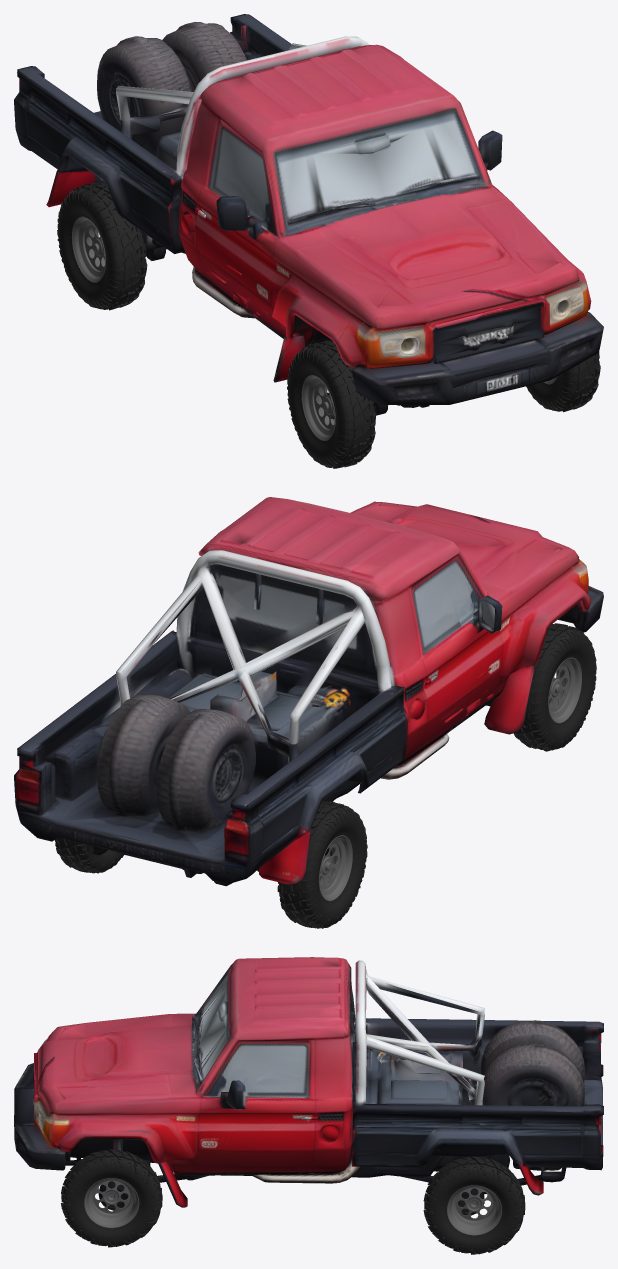
Rendered from toyota-24.glb.
3 renders of one model, top to bottom at view 1: azimuth 30°, elevation 25°; view 2: azimuth 150°, elevation 25°; view 3: azimuth 270°, elevation 25°, orthographic. The views are drawn at different scales.
Parts seen in each view (by area): view 1: chassis, Wheel_BR, WheeL_FR, Wheel_FL; view 2: chassis, Wheel_BR, WheeL_FR, Wheel_BL; view 3: chassis, Wheel_BL, Wheel_FL.
Boxes of the visible parts, x1,y1,x2,y2 form: chassis: (14, 14, 603, 419); Wheel_BR: (57, 182, 147, 310); WheeL_FR: (287, 340, 375, 468); Wheel_FL: (526, 351, 600, 412); chassis: (14, 497, 603, 886); Wheel_BR: (277, 801, 367, 928); WheeL_FR: (513, 623, 596, 751); Wheel_BL: (55, 838, 123, 873); chassis: (14, 957, 603, 1215); Wheel_BL: (423, 1156, 525, 1254); Wheel_FL: (61, 1149, 162, 1247).
Bounding box in the file's own units: 2.24 × 2.1 × 5.07.
Materials: 5 (1 with a texture image).
